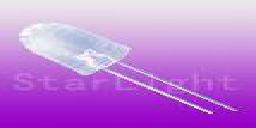LED: (17, 19, 133, 76)
